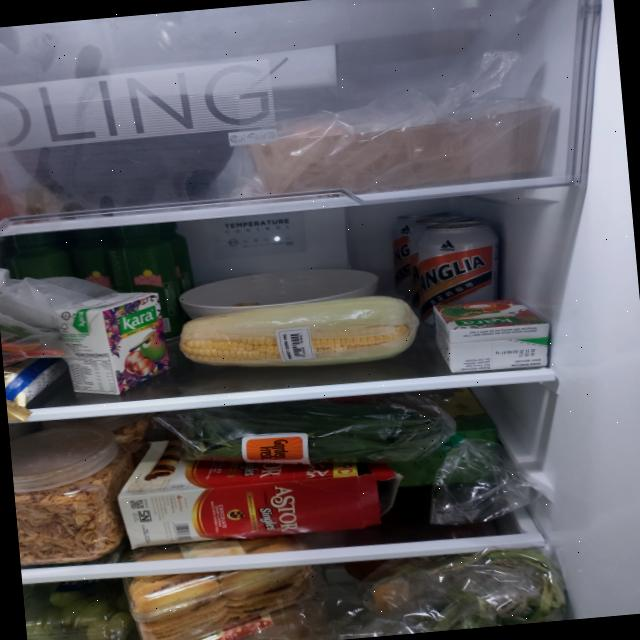chili: (0, 314, 65, 364)
coconut_milk: (53, 287, 174, 399), (431, 294, 554, 376)
corn: (175, 291, 422, 378)
grape: (22, 578, 145, 640)
leafy_greens: (178, 387, 448, 481)
